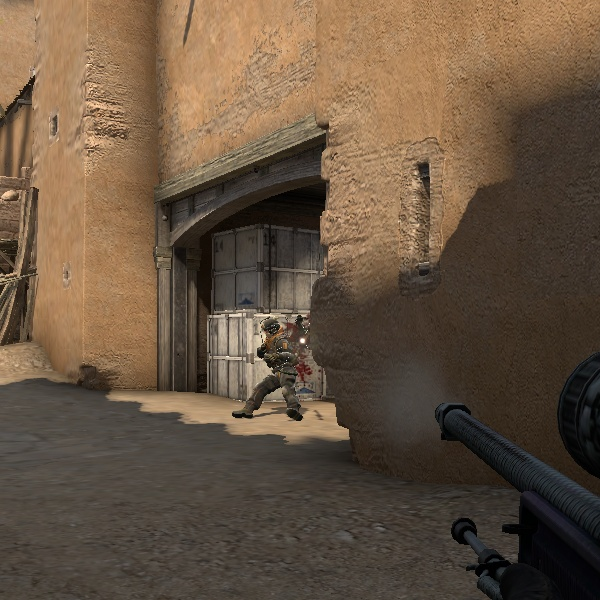t_body: (244, 314, 305, 423)
t_head: (260, 314, 290, 346)
